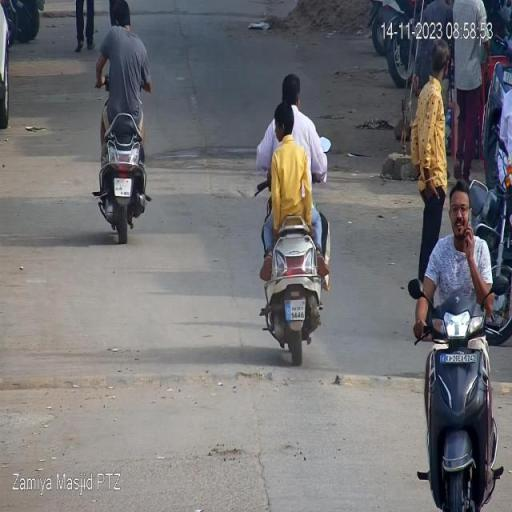using mobile: (464, 199, 478, 251)
